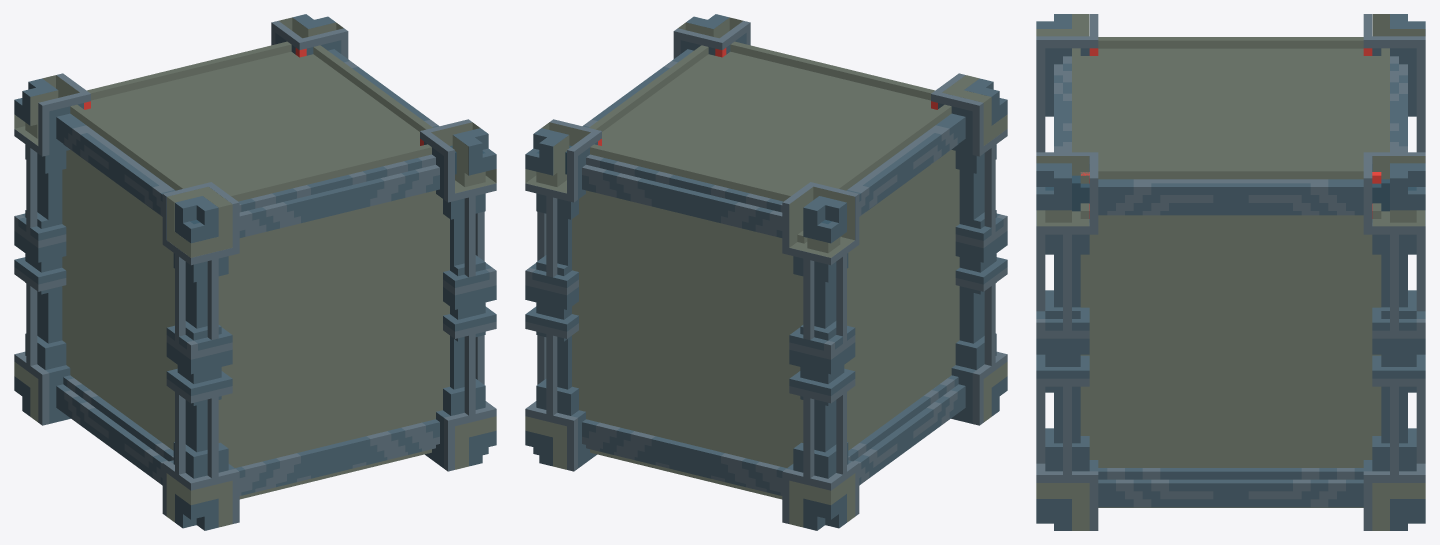
The picture shows the model from 3 angles, left to right: view 1: azimuth 30°, elevation 25°; view 2: azimuth 150°, elevation 25°; view 3: azimuth 270°, elevation 25°; orthographic projection. The views are drawn at different scales.
Visible parts, largest first — view 1: OUTER-GLASS_CUBE01-2, FRAME_CUBE01-0; view 2: OUTER-GLASS_CUBE01-2, FRAME_CUBE01-0; view 3: OUTER-GLASS_CUBE01-2, FRAME_CUBE01-0.
Boxes of the visible parts, box(x1,y1,x2,y2) form: OUTER-GLASS_CUBE01-2: box(14, 17, 496, 527); FRAME_CUBE01-0: box(14, 14, 496, 530); OUTER-GLASS_CUBE01-2: box(525, 17, 1007, 527); FRAME_CUBE01-0: box(525, 14, 1007, 530); OUTER-GLASS_CUBE01-2: box(1036, 14, 1425, 530); FRAME_CUBE01-0: box(1036, 14, 1425, 530).
Bounding box in the file's own units: 2.64 × 2.64 × 2.64.
2 materials, 1 textured.
